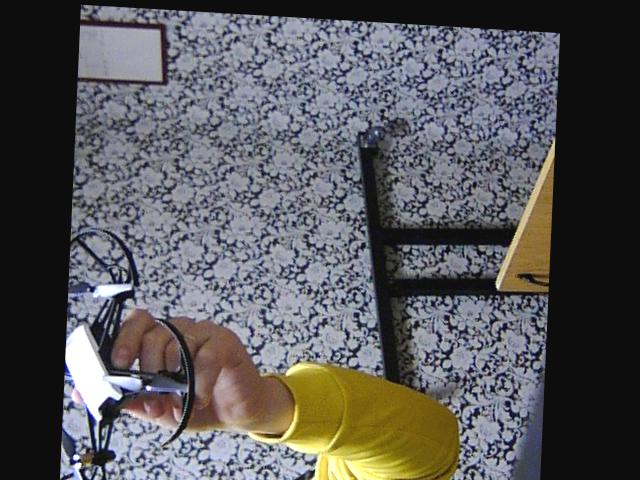drone: (63, 211, 208, 480)
